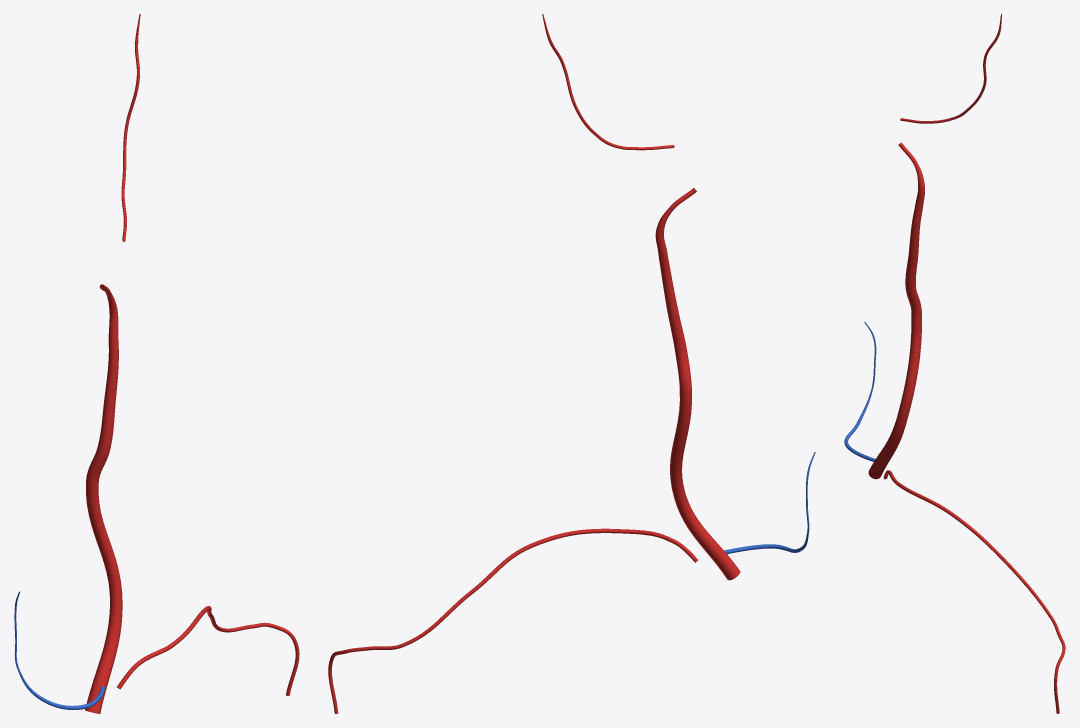
The model's file is circulatorio-external-jugular-vein-l.glb.
The picture shows the model from 3 angles, left to right: view 1: azimuth 30°, elevation 25°; view 2: azimuth 150°, elevation 25°; view 3: azimuth 270°, elevation 25°; orthographic projection. The views are drawn at different scales.
Visible parts, largest first — view 1: External jugular vein.l, Suprascapular vein.l, Posterior auricular vein.l, Anterior jugular vein.l; view 2: External jugular vein.l, Suprascapular vein.l, Posterior auricular vein.l; view 3: External jugular vein.l, Suprascapular vein.l, Posterior auricular vein.l, Anterior jugular vein.l.
Boxes of the visible parts, x1,y1,x2,y2 form: External jugular vein.l: (85, 310, 122, 713); Suprascapular vein.l: (117, 606, 299, 695); Posterior auricular vein.l: (121, 14, 140, 241); Anterior jugular vein.l: (14, 591, 105, 709); External jugular vein.l: (655, 230, 740, 580); Suprascapular vein.l: (328, 528, 698, 713); Posterior auricular vein.l: (542, 14, 674, 150); External jugular vein.l: (868, 186, 924, 479); Suprascapular vein.l: (883, 470, 1065, 713); Posterior auricular vein.l: (900, 14, 1001, 123); Anterior jugular vein.l: (844, 322, 876, 462).
Bounding box in the file's own units: 0.1409 × 0.2561 × 0.0821.
